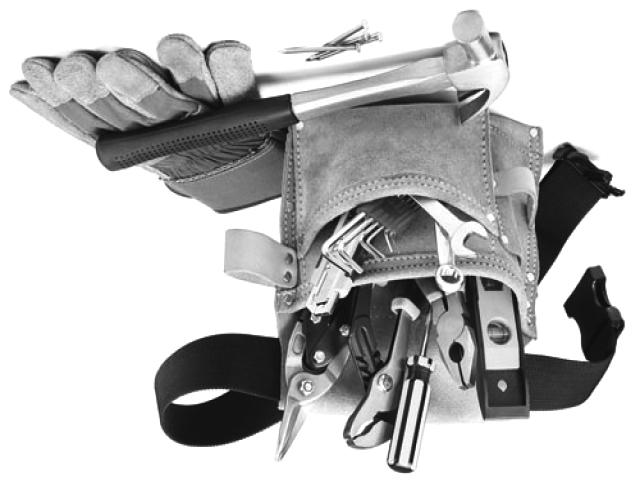Gas wrench: (344, 280, 422, 448)
Hammer: (96, 12, 510, 172)
Pliers: (411, 274, 475, 390)
Screwdriver: (388, 308, 435, 473)
Utility knife: (306, 257, 354, 322)
Wrench: (412, 196, 488, 257), (435, 223, 464, 293)
